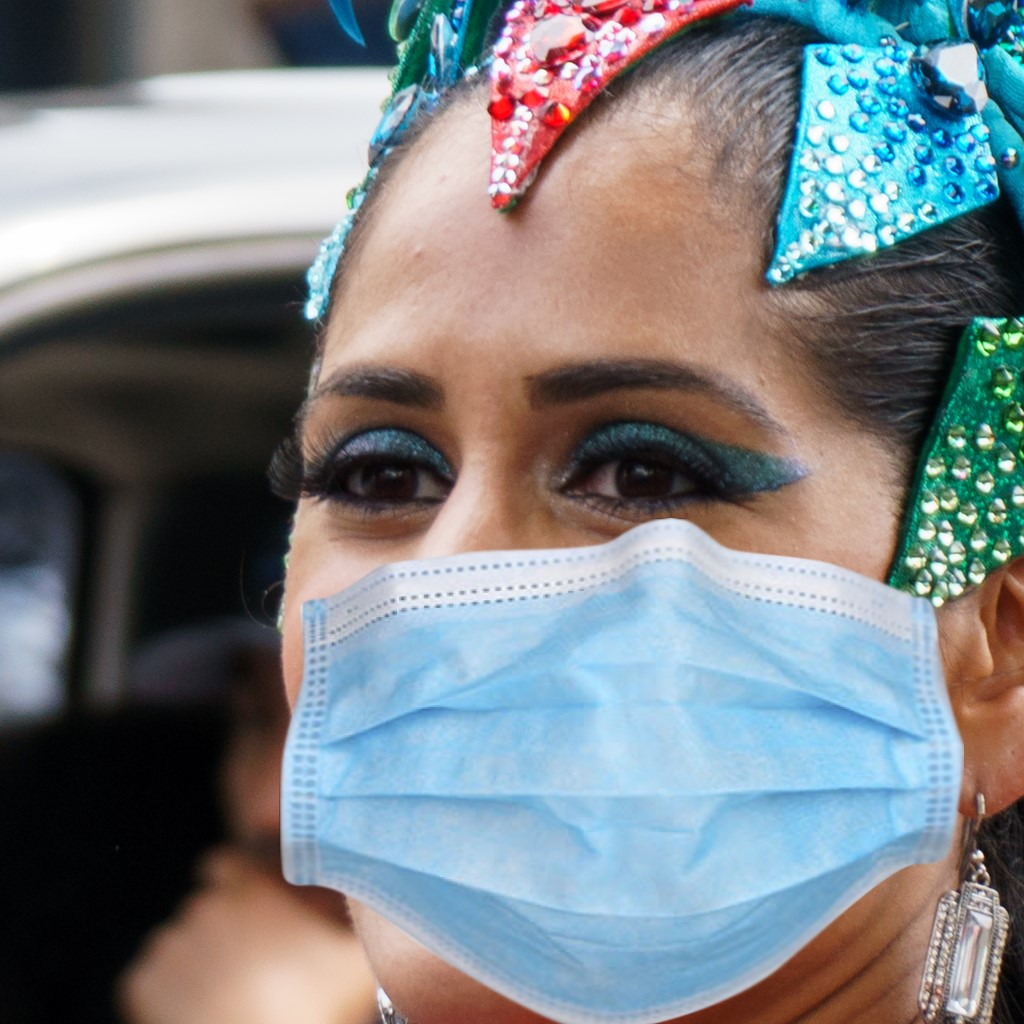con_mascara: (272, 105, 954, 973)
